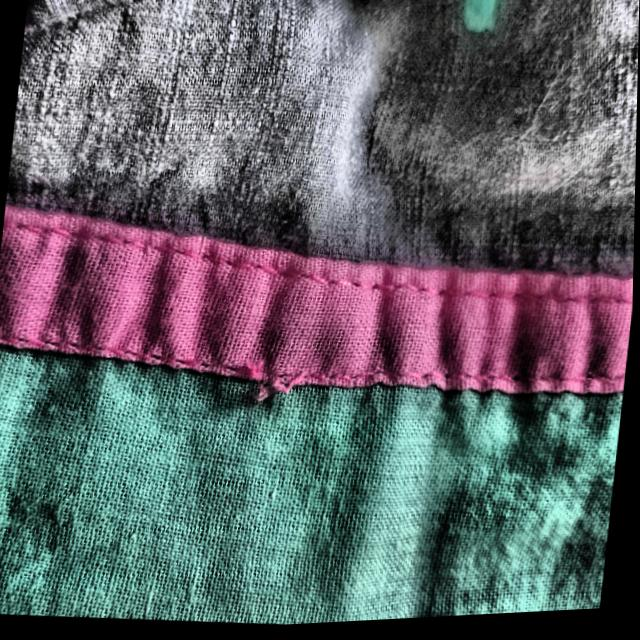Stitch: (196, 305, 347, 447)
